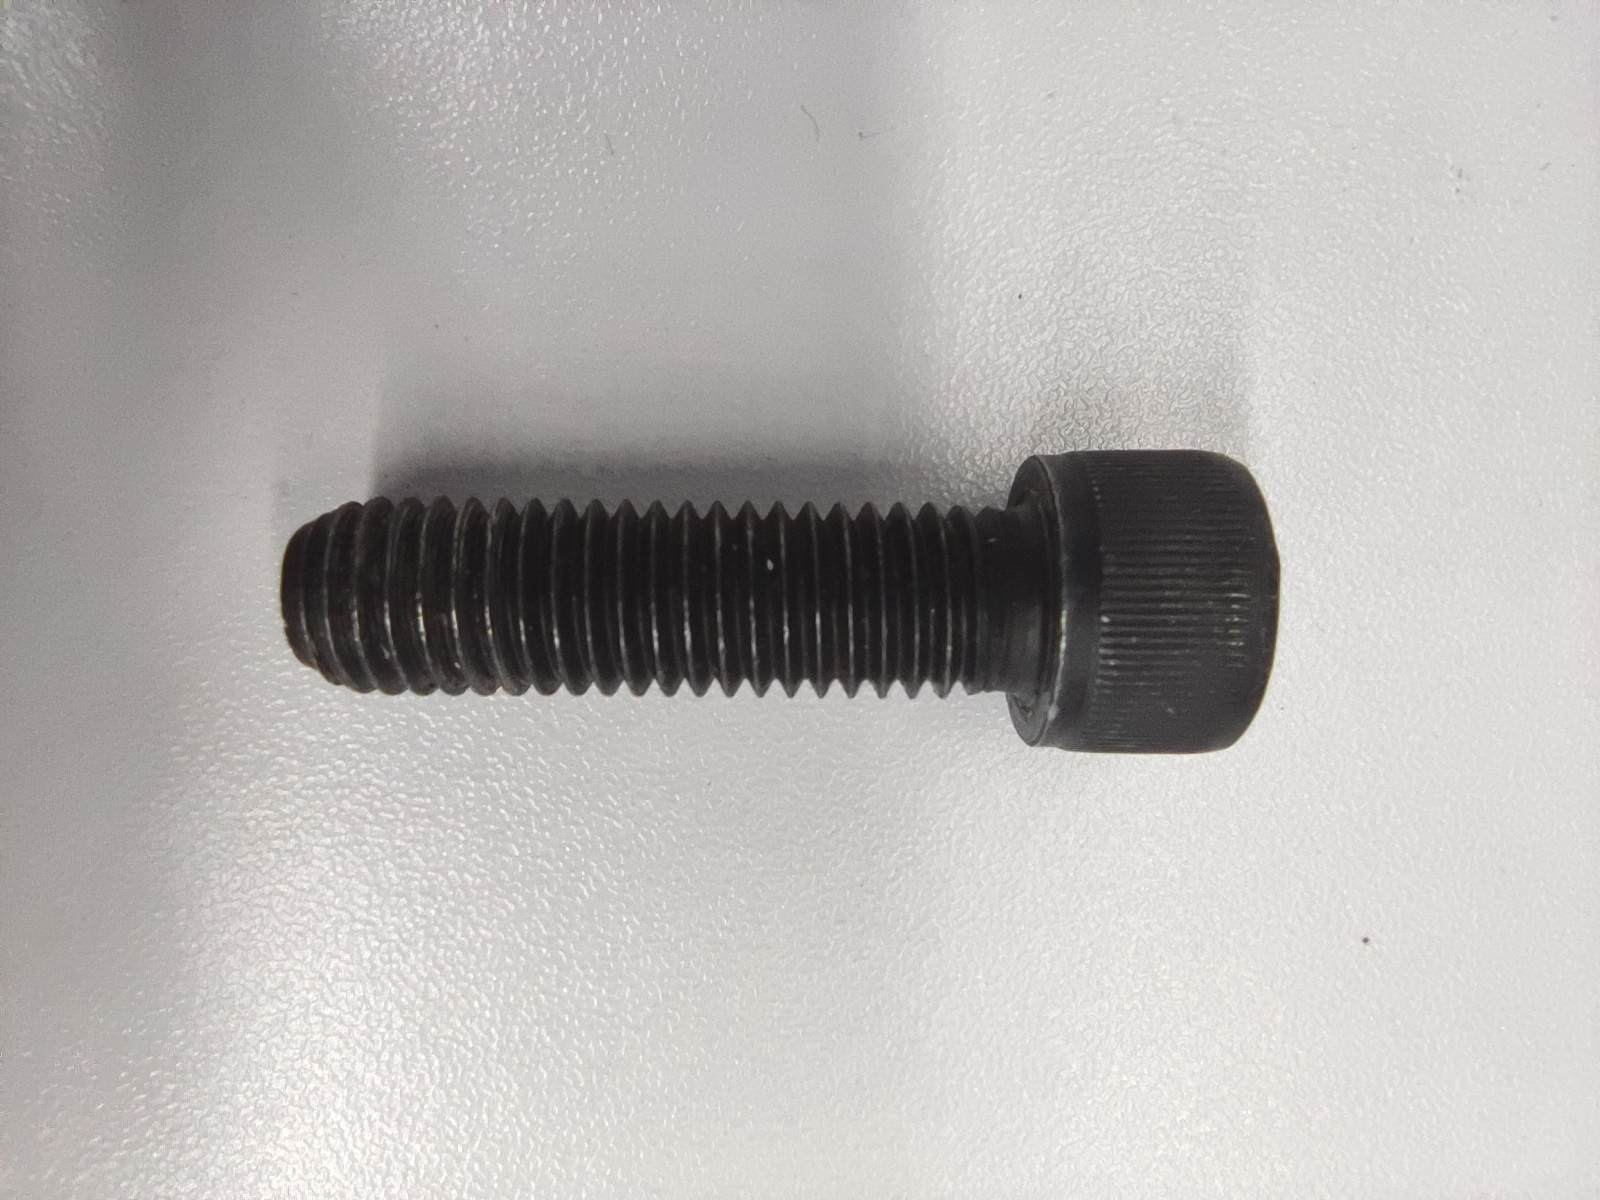螺钉: (278, 446, 1283, 754)
